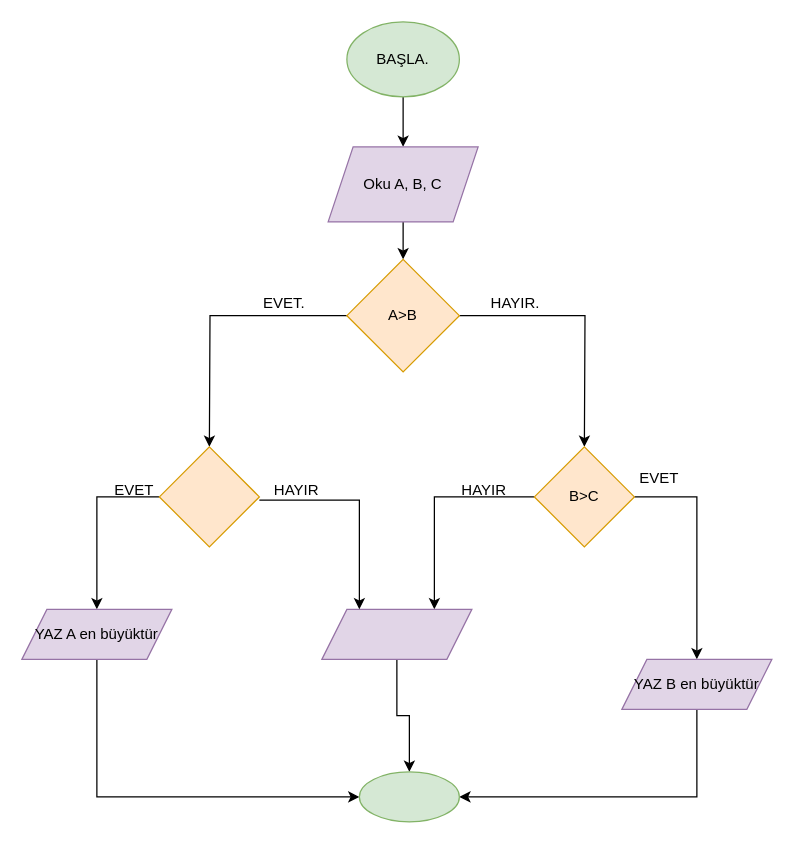
The diagram is 794 pixels wide and 844 high, and some of its shapes have lost their labels. The shapes that lost their labels are listed below. From the top down, each one's centre as x and y in pixels, then its label:
At point 208,496: "A>C".
At point 396,633: "YAZ C en büyüktür".
At point 408,796: "DUR.".
